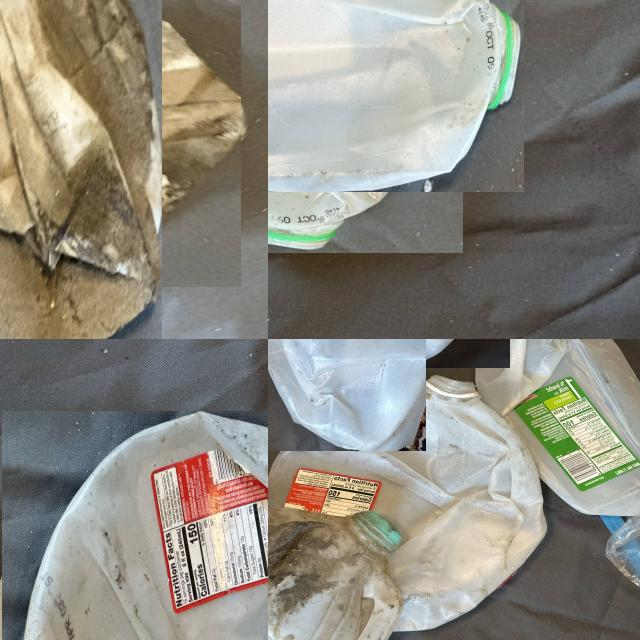milk-jug: (268, 382, 543, 632), (0, 0, 202, 325), (0, 422, 268, 640), (268, 0, 493, 222), (464, 339, 640, 513), (268, 500, 405, 640), (268, 339, 468, 408)
